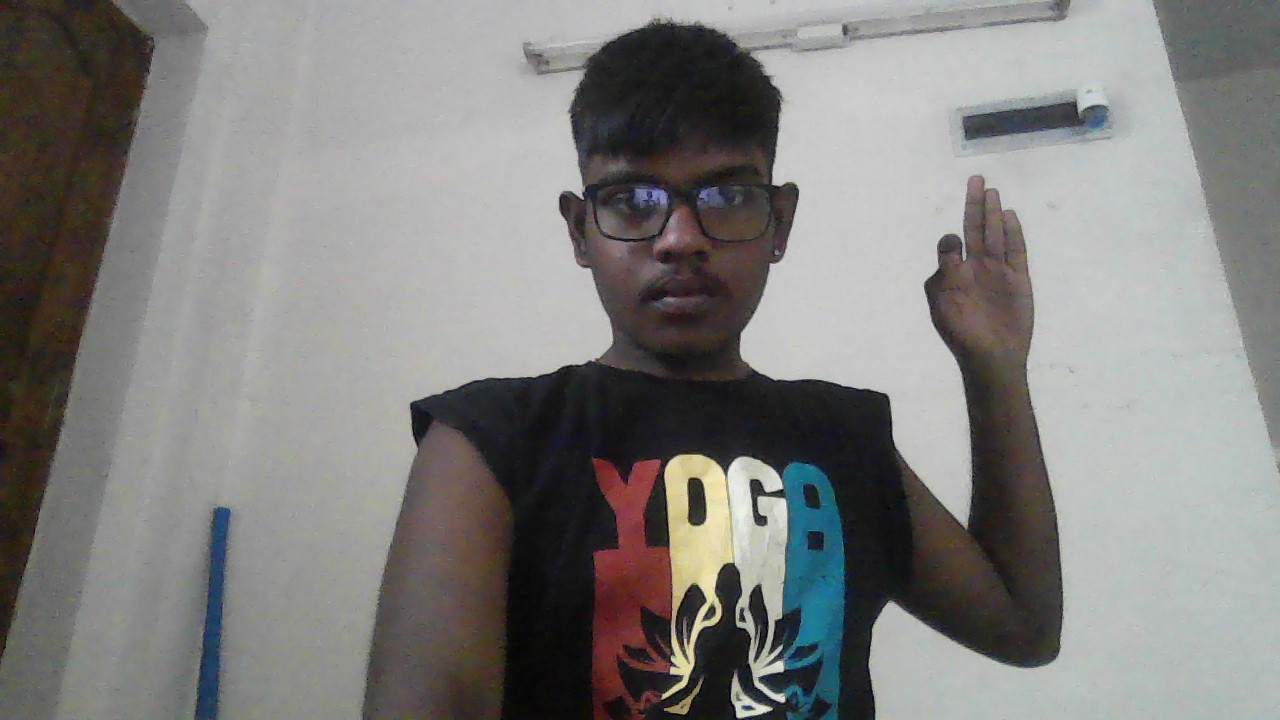F: (924, 175, 1037, 382)
